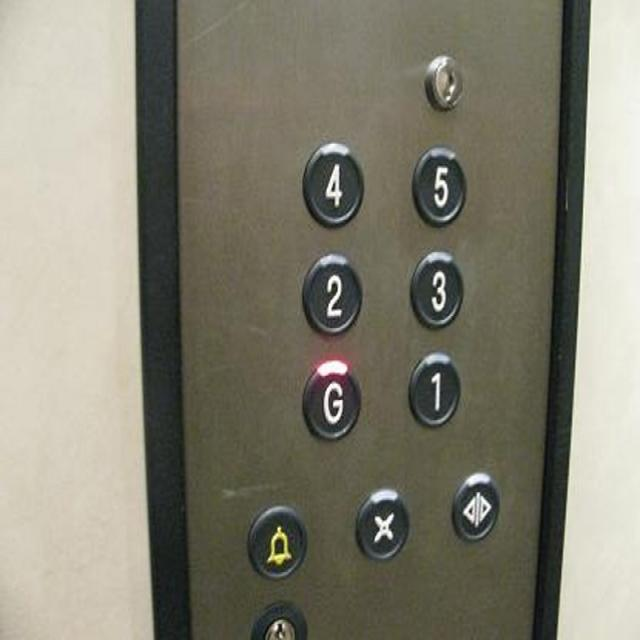1: (404, 347, 462, 433)
2: (298, 248, 364, 340)
3: (406, 245, 466, 331)
4: (299, 138, 365, 230)
5: (408, 142, 468, 230)
G: (299, 354, 362, 442)
alarm: (244, 502, 308, 582)
fan: (352, 484, 410, 563)
keyhole: (422, 50, 466, 114)
open: (450, 468, 500, 544)
